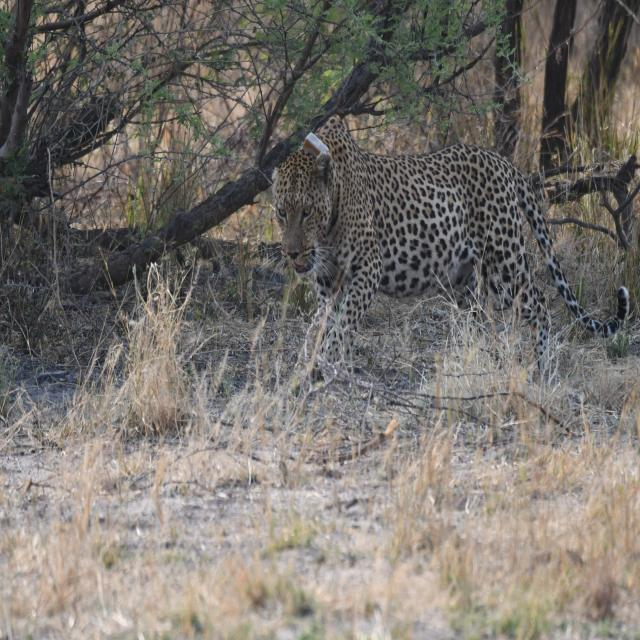Leopard: (263, 111, 636, 367)
